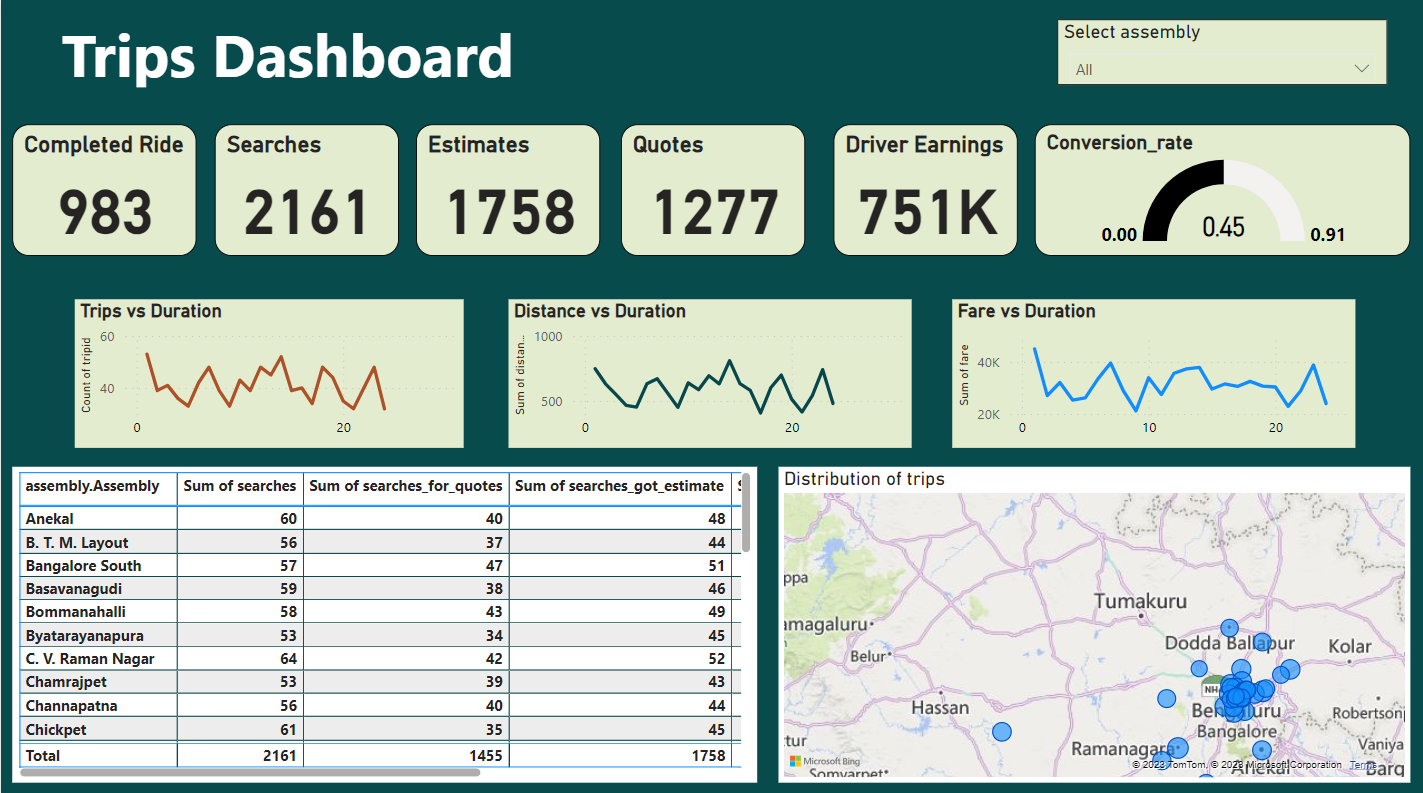

This screenshot's page, from the dashboard's own definition file:
{"tool":"powerbi","page":{"name":"Page 1","canvas":[1280,720],"ordinal":0},"visuals":[{"type":"card","title":"Completed Ride","fields":{"Values":["Sum(trip_details.end_ride)"]},"box":[10.7,113.3,165.3,118.7],"z":0},{"type":"card","title":"Searches","fields":{"Values":["Sum(trip_details.searches)"]},"box":[192,113.3,165.3,118.7],"z":1000},{"type":"card","title":"Estimates","fields":{"Values":["Sum(trip_details.searches_got_estimate)"]},"box":[373.3,113.3,165.3,118.7],"z":2000},{"type":"card","title":"Quotes","fields":{"Values":["Sum(trip_details.searches_got_quotes)"]},"box":[557.3,113.3,165.3,118.7],"z":3000},{"type":"card","title":"Driver Earnings","fields":{"Values":["Sum(trips.fare)"]},"box":[748,113.3,165.3,118.7],"z":4000},{"type":"gauge","fields":{"Y":["trip_details.Conversion_rate"]},"box":[929.3,113.3,337.3,118.7],"z":5000},{"type":"lineChart","title":"Trips vs Duration","fields":{"Category":["trips.duration"],"Y":["CountNonNull(trips.tripid)"]},"box":[66.7,270.7,349.3,133.3],"z":6000},{"type":"lineChart","title":"Distance vs Duration","fields":{"Category":["trips.duration"],"Y":["Sum(trips.distance)"]},"box":[456,270.7,362.7,133.3],"z":7000},{"type":"lineChart","title":"Fare vs Duration","fields":{"Category":["trips.duration"],"Y":["Sum(trips.fare)"]},"box":[854.7,270.7,362.7,133.3],"z":8000},{"type":"tableEx","fields":{"Values":["Merge2.assembly.Assembly","Sum(Merge2.searches)","Sum(Merge2.searches_for_quotes)","Sum(Merge2.searches_got_estimate)","Sum(Merge2.trips.fare)","Sum(Merge2.trips.distance)","trip_details.Conversion_rate"]},"box":[10.7,421.3,669.3,284],"z":9000},{"type":"map","title":"Distribution of trips","fields":{"Category":["Merge2.assembly.Assembly"],"Size":["CountNonNull(Merge2.tripid)"]},"box":[698.7,421.3,568,284],"z":10000},{"type":"textbox","box":[20,12,1069.3,73.3],"z":11000},{"type":"slicer","title":"Select assembly","fields":{"Values":["Merge2.assembly.Assembly"]},"box":[949.5,18.9,296.8,58.9],"z":12000}]}

Visuals, with their boxes in screenshot pixels (x1, y1, x2, y2), scaled from the page's 1280x720 canvas onto the 1423x793 screenshot:
"Completed Ride" card: 12:125:196:256
"Searches" card: 213:125:397:256
"Estimates" card: 415:125:599:256
"Quotes" card: 620:125:803:256
"Driver Earnings" card: 832:125:1015:256
gauge - trip_details.Conversion_rate: 1033:125:1408:256
"Trips vs Duration" lineChart: 74:298:462:445
"Distance vs Duration" lineChart: 507:298:910:445
"Fare vs Duration" lineChart: 950:298:1353:445
tableEx - Merge2.assembly.Assembly x Sum(Merge2.searches): 12:464:756:777
"Distribution of trips" map: 777:464:1408:777
textbox: 22:13:1211:94
"Select assembly" slicer: 1056:21:1386:86
